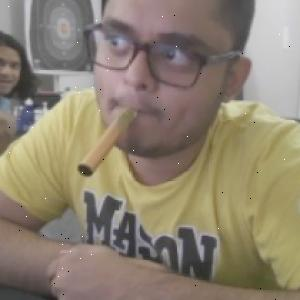Golden-E-Ciggirate: (75, 106, 133, 179)
